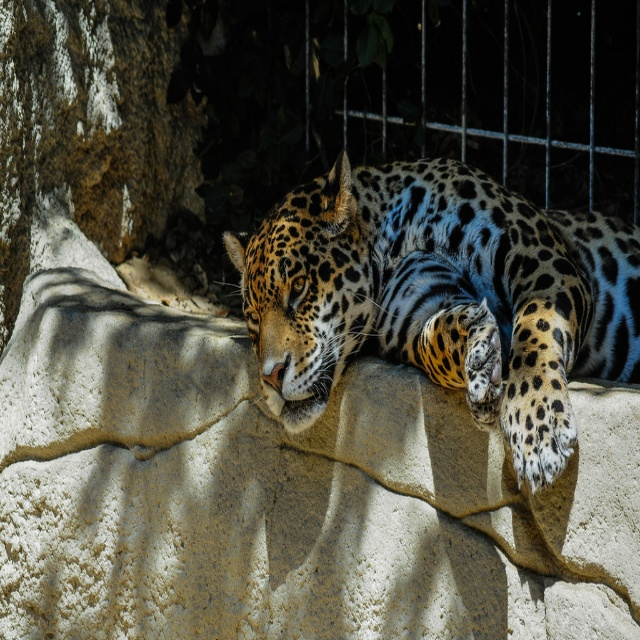Leopard: (213, 148, 639, 495)
